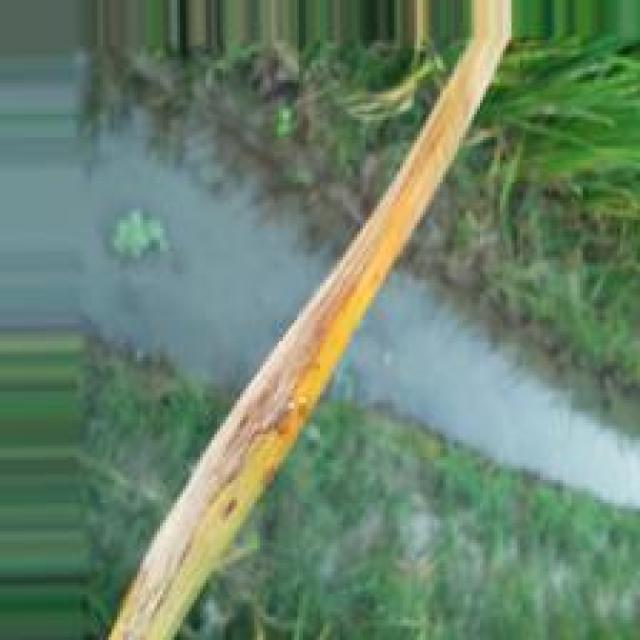Rice False Smut: (118, 94, 468, 637)
